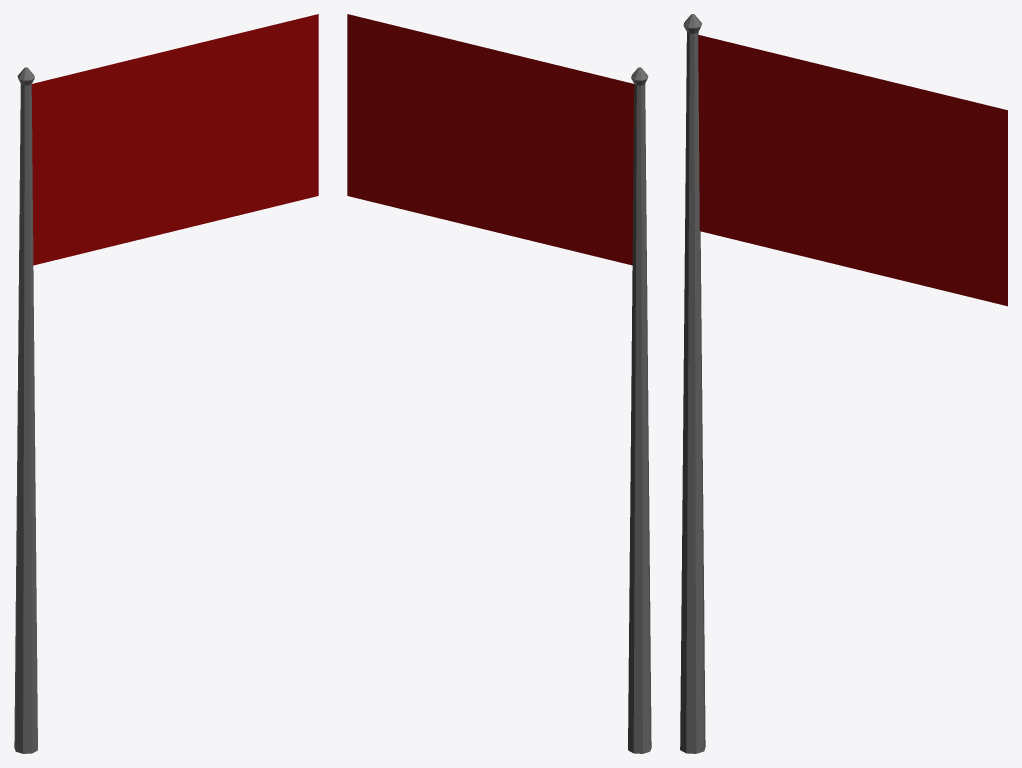
File: BandeiraVermelha.fbx
The picture shows the model from 3 angles, left to right: view 1: azimuth 30°, elevation 25°; view 2: azimuth 150°, elevation 25°; view 3: azimuth 330°, elevation 25°; orthographic projection. The views are drawn at different scales.
Parts seen in each view (by area): view 1: Bandiera, mastro; view 2: Bandiera, mastro; view 3: Bandiera, mastro.
Part boxes in pixels (x1,y1,x2,y2): Bandiera: (31, 14, 318, 265); mastro: (14, 67, 37, 753); Bandiera: (347, 14, 634, 265); mastro: (628, 67, 651, 753); Bandiera: (698, 35, 1007, 306); mastro: (680, 14, 705, 753).
Bounding box in the file's own units: 92.95 × 200 × 6.49.
